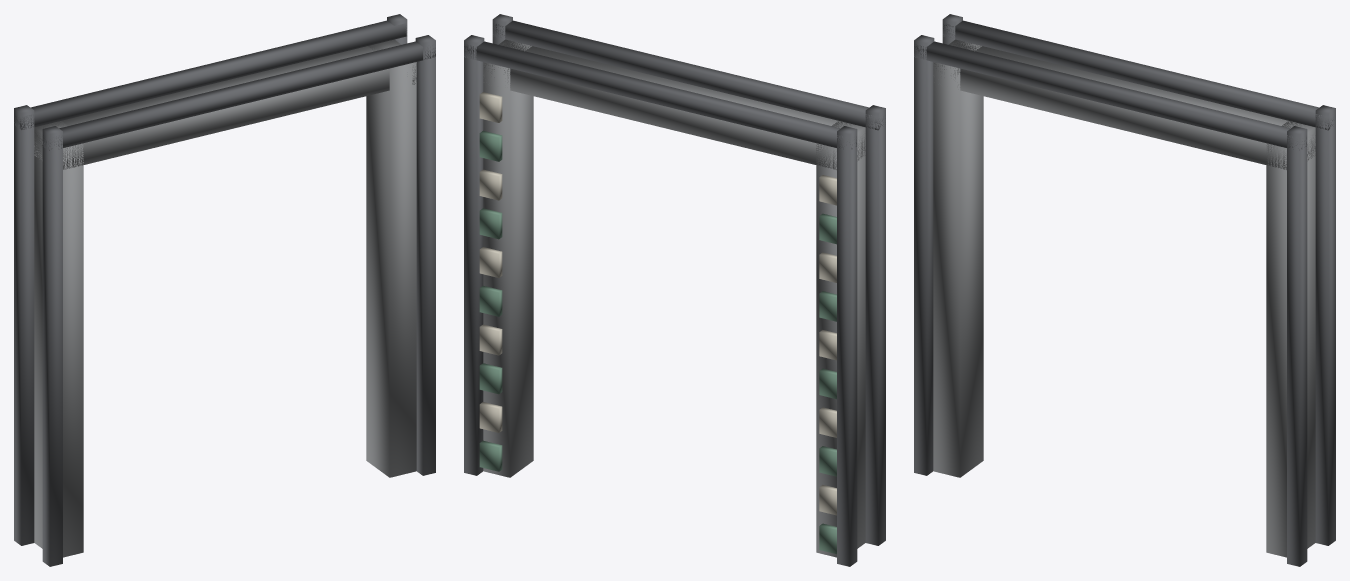
File: doorway_tile_return_w182_h220_d24.glb
3 views of the same model, side by side, from view 1: azimuth 30°, elevation 25°; view 2: azimuth 150°, elevation 25°; view 3: azimuth 330°, elevation 25° (orthographic).
Parts seen in each view (by area): view 1: world; view 2: world; view 3: world.
Boxes of the visible parts, x1,y1,x2,y2 form: world: (14, 14, 435, 566); world: (464, 14, 885, 566); world: (914, 14, 1335, 566).
Size of the model in its own units: 2.29 by 2.46 by 0.3706.
